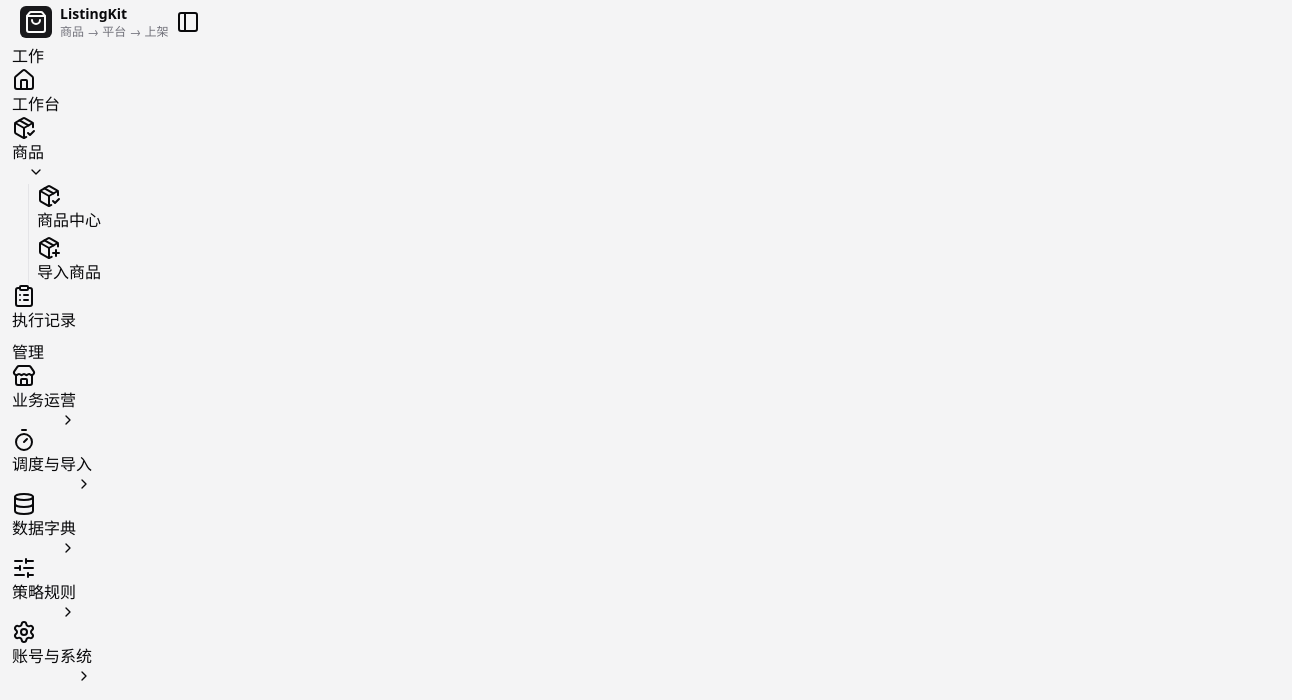
ListingKit product-oriented navigation › allows an active product group to be collapsed manually
Click the button "商品". click: {"x": 28, "y": 148}
box: [12, 116, 44, 180]
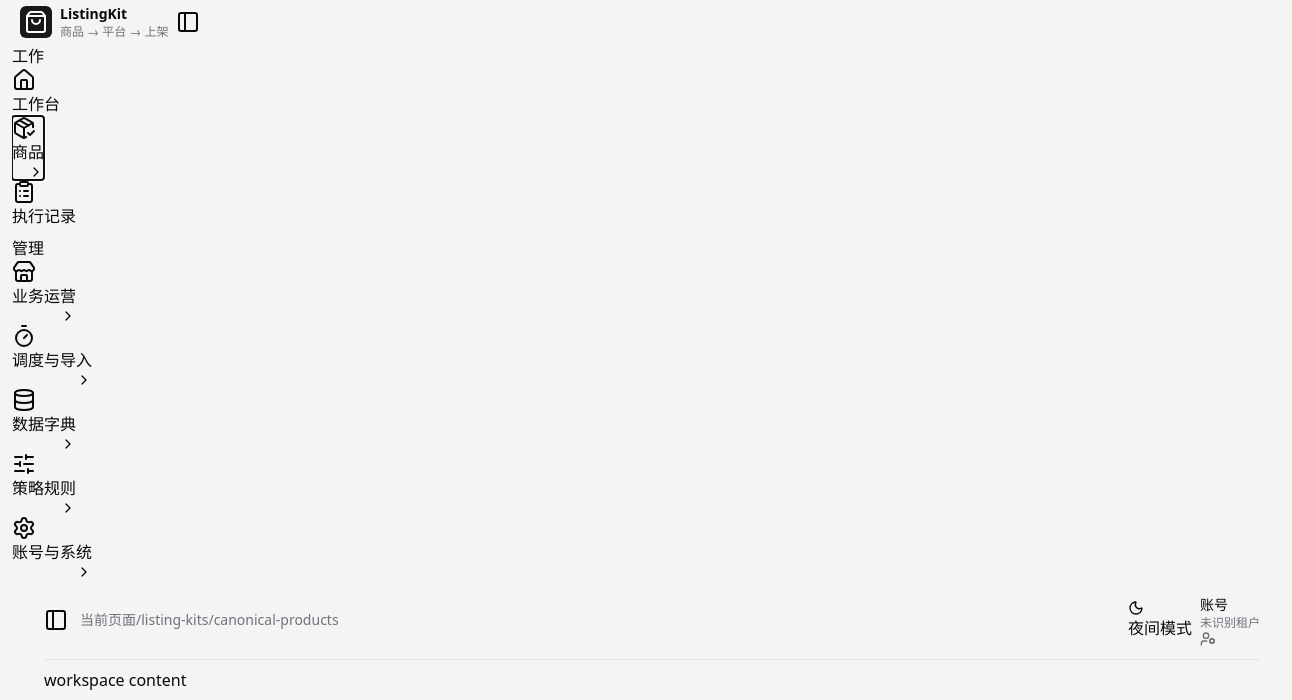
expect the button "商品" is collapsed: met, box [12, 116, 44, 180]
expect the link "商品中心" is gone: met
